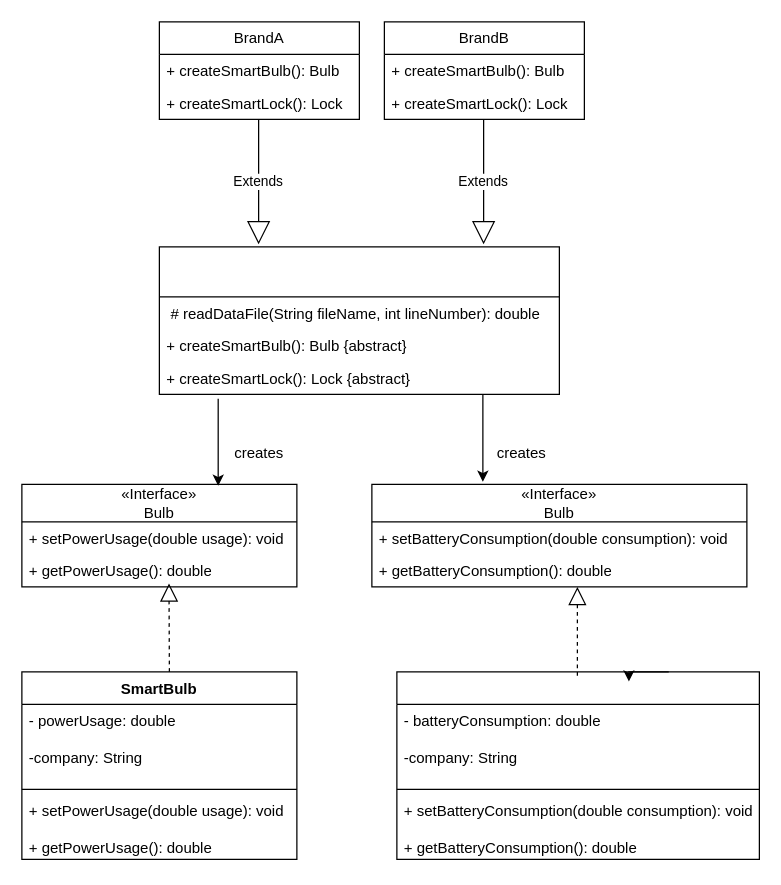
Image size: 781x885. Some labels were removed from this diagram. Here are the shapes that lost their labels. From the top down, the box of each, then its label:
(158, 246, 559, 394): «Abstract» SmartDeviceFactory
(396, 671, 759, 859): SmartLock
